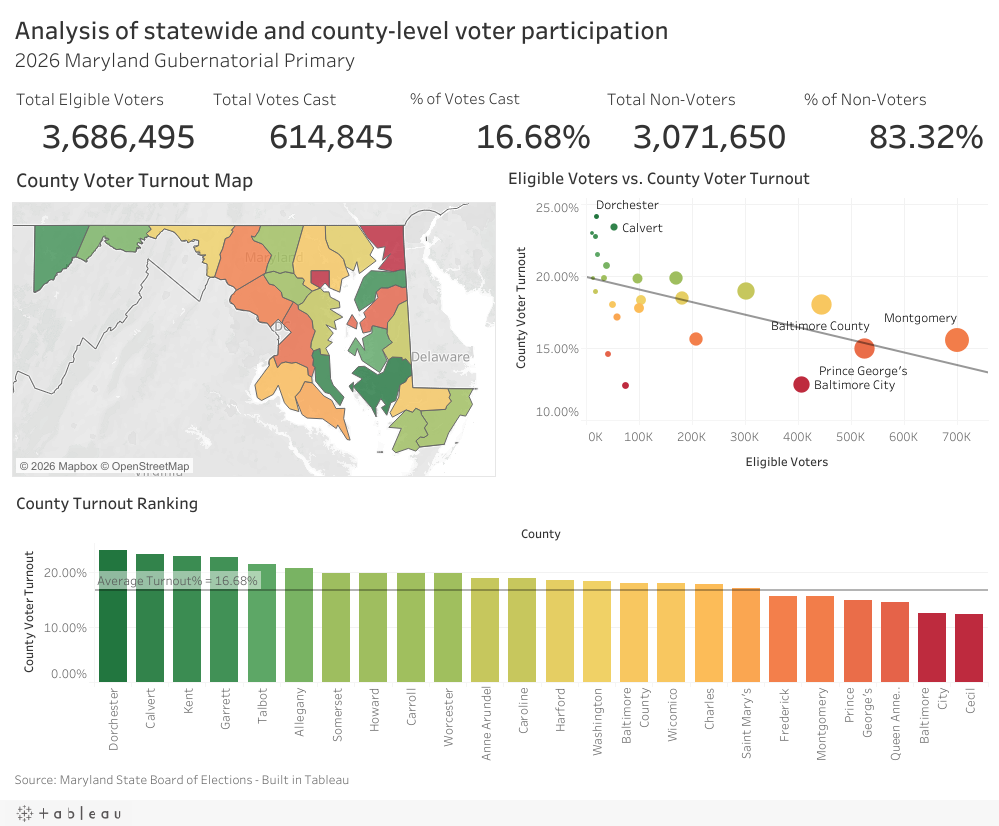

This screenshot's page, from the dashboard's own definition file:
{"tool":"tableau","page":{"name":"Analysis of statewide and county-level voter participation","canvas":[1000,800],"ordinal":0},"visuals":[{"type":"title","box":[8,8,984,69]},{"type":"worksheet","title":"Total Elgible Voters","mark":"Automatic","box":[8,77,197,79]},{"type":"worksheet","title":"Total Votes Cast","mark":"Automatic","box":[205,77,197,79]},{"type":"worksheet","title":"% of Votes Cast","mark":"Automatic","box":[402,77,197,79]},{"type":"worksheet","title":"Total Non-Voters","mark":"Automatic","box":[599,77,197,79]},{"type":"worksheet","title":"% of Non-Voters","mark":"Automatic","box":[796,77,196,79]},{"type":"worksheet","title":"Voter Turnout Map","mark":"Multipolygon","box":[8,156,492,325]},{"type":"worksheet","title":"Eligible Voters vs. Voter Turnout by County","mark":"Circle","rows":["Calculation_2672516969975808"],"cols":["Eligible Voters"],"box":[500,156,492,325]},{"type":"worksheet","title":"County Turnout Ranking","mark":"Automatic","rows":["Calculation_2672516969975808"],"cols":["County"],"box":[8,481,984,285]},{"type":"text","box":[8,766,984,26]}]}

Visuals, with their boxes on the page's 1000x800 design canvas (x1, y1, x2, y2). These are canvas units, not pixel positions in the 999x826 screenshot, which may show the page scaled, cropped or inside an application window:
title: {"left": 8, "top": 8, "right": 992, "bottom": 77}
"Total Elgible Voters" worksheet: {"left": 8, "top": 77, "right": 205, "bottom": 156}
"Total Votes Cast" worksheet: {"left": 205, "top": 77, "right": 402, "bottom": 156}
"% of Votes Cast" worksheet: {"left": 402, "top": 77, "right": 599, "bottom": 156}
"Total Non-Voters" worksheet: {"left": 599, "top": 77, "right": 796, "bottom": 156}
"% of Non-Voters" worksheet: {"left": 796, "top": 77, "right": 992, "bottom": 156}
"Voter Turnout Map" worksheet (Multipolygon marks): {"left": 8, "top": 156, "right": 500, "bottom": 481}
"Eligible Voters vs. Voter Turnout by County" worksheet (Circle marks): {"left": 500, "top": 156, "right": 992, "bottom": 481}
"County Turnout Ranking" worksheet: {"left": 8, "top": 481, "right": 992, "bottom": 766}
text: {"left": 8, "top": 766, "right": 992, "bottom": 792}
